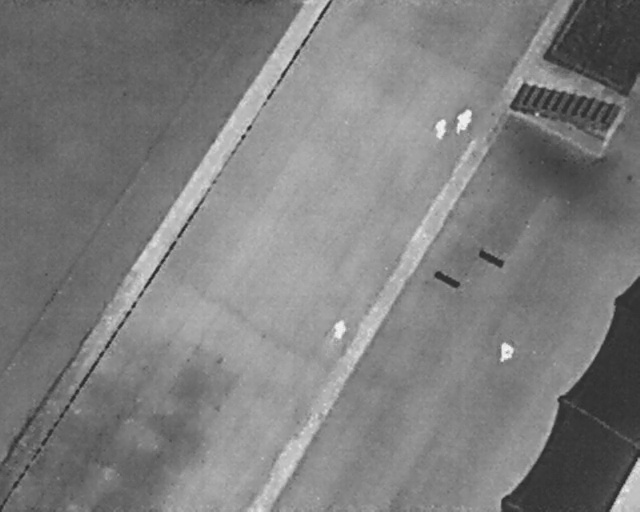Person: (453, 105, 475, 136), (429, 115, 450, 143), (329, 316, 349, 343), (498, 341, 516, 363)
